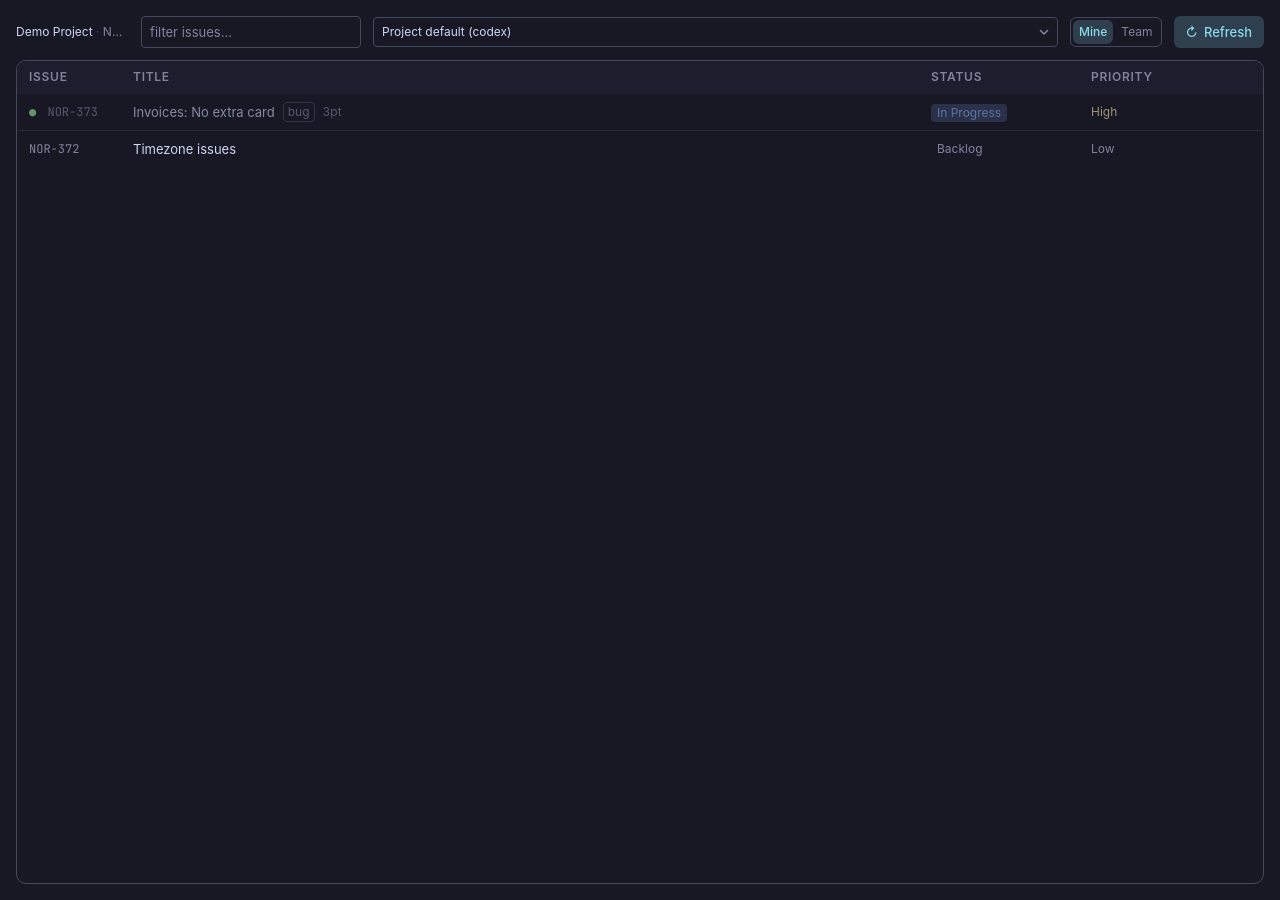
Scenario: TicketPicker › shows the assignee column only in team scope
Check: the text "Invoices: No extra card" is shown, box left=133, top=103, right=275, bottom=121
Check: the text "Assignee" is not shown
What coordinates should you click on to do the following:
click the button "Team"
I would click on:
 (1137, 32)
Its box is left=1115, top=20, right=1159, bottom=44.
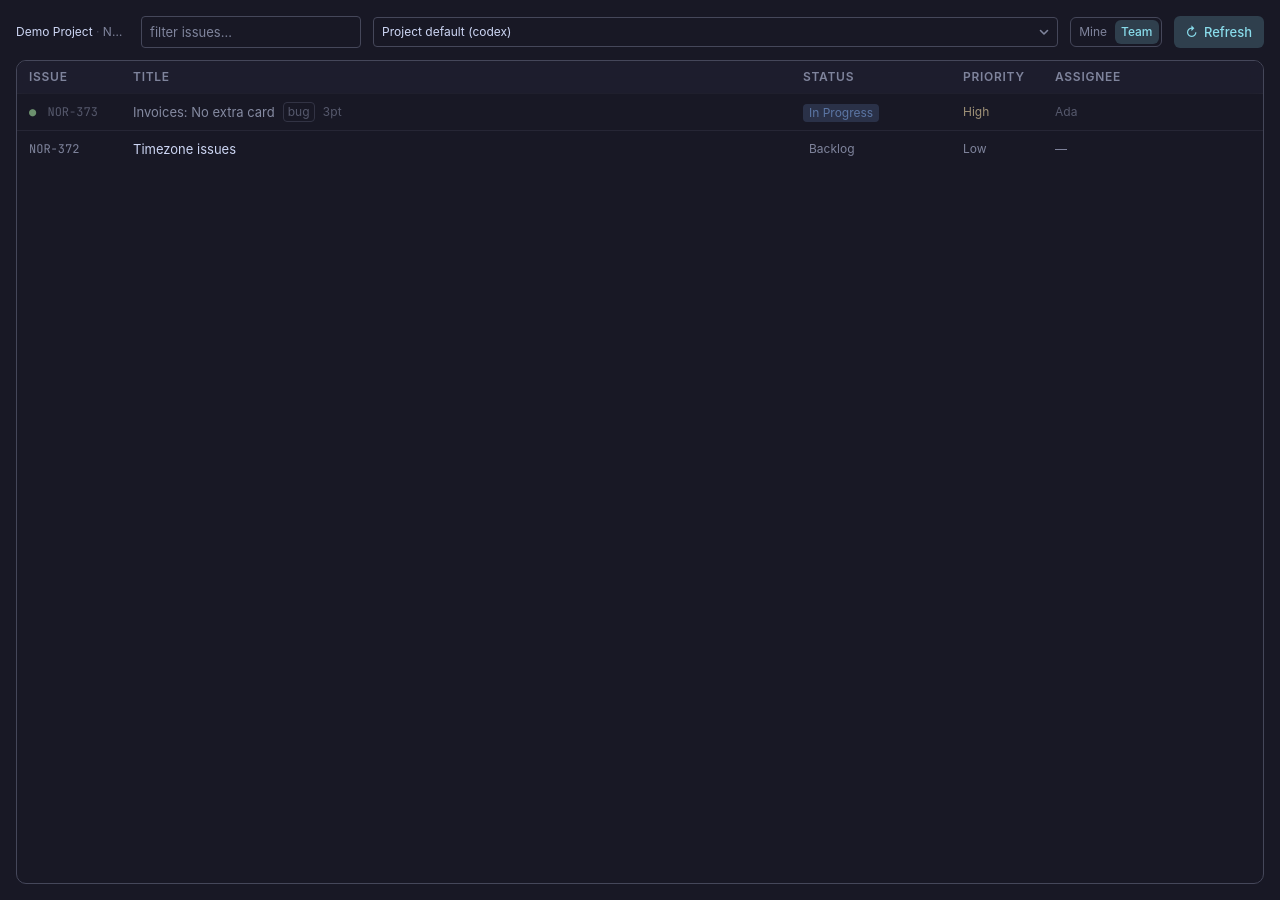
Check: the column heading "Assignee" is shown, box left=1043, top=61, right=1171, bottom=94
Check: the text "Ada" is shown, box left=1043, top=94, right=1171, bottom=130
